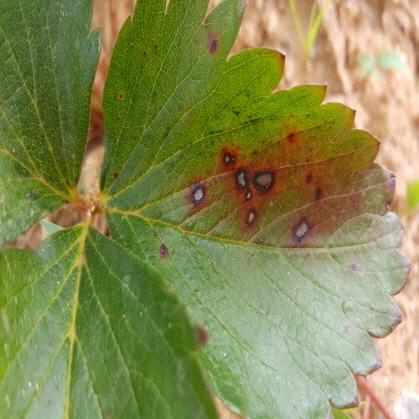Leaf Spot: (98, 0, 410, 418)
